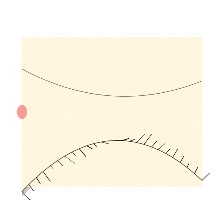pinguecula_lesion: (32, 97, 71, 128)
